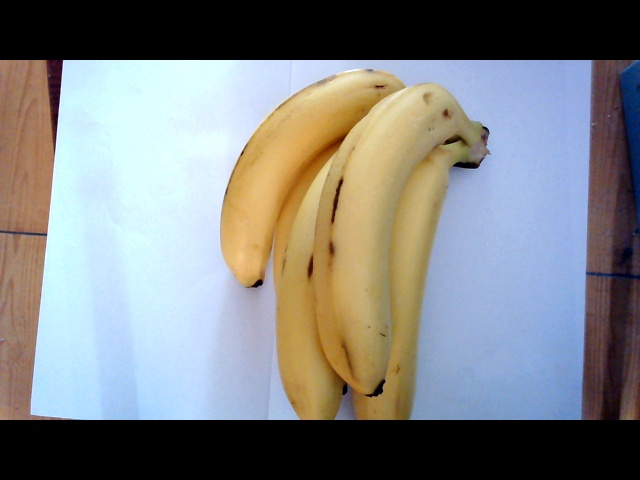banana: (214, 66, 471, 412)
